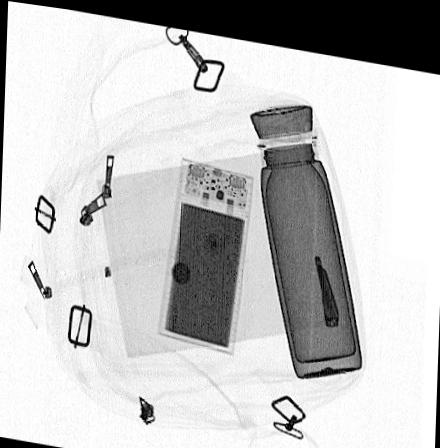Powerbank: (156, 150, 254, 348)
